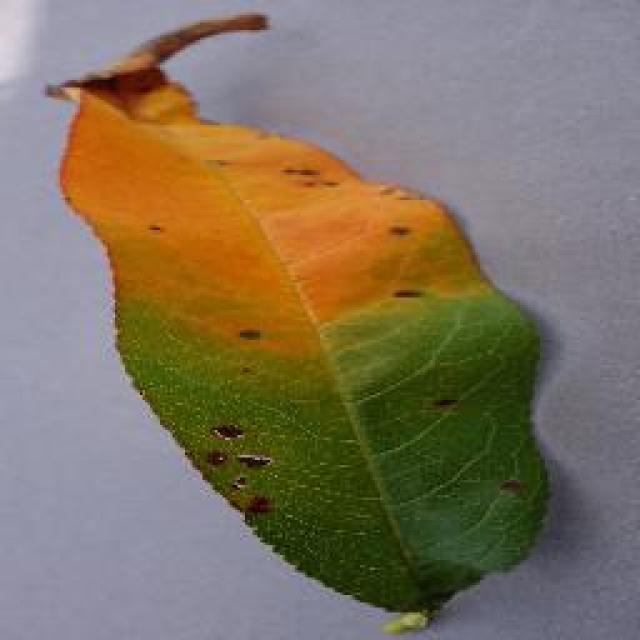Peach_Bacterial_Spot: (166, 100, 482, 582)
